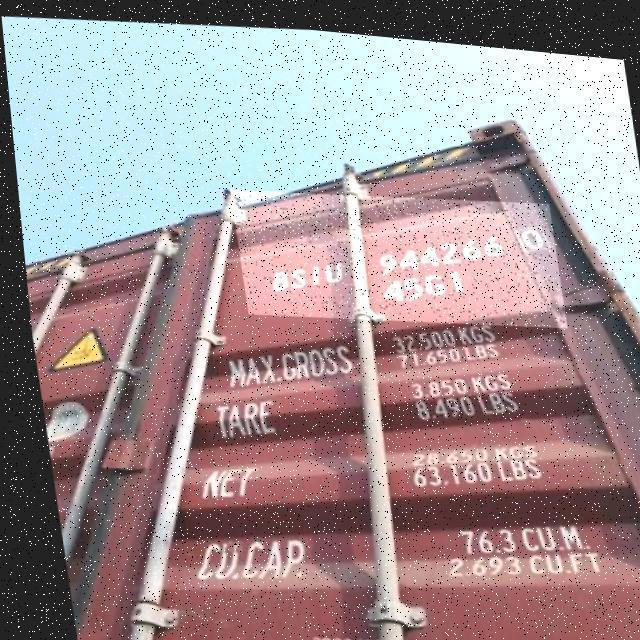container_number_h: (226, 169, 563, 334)
